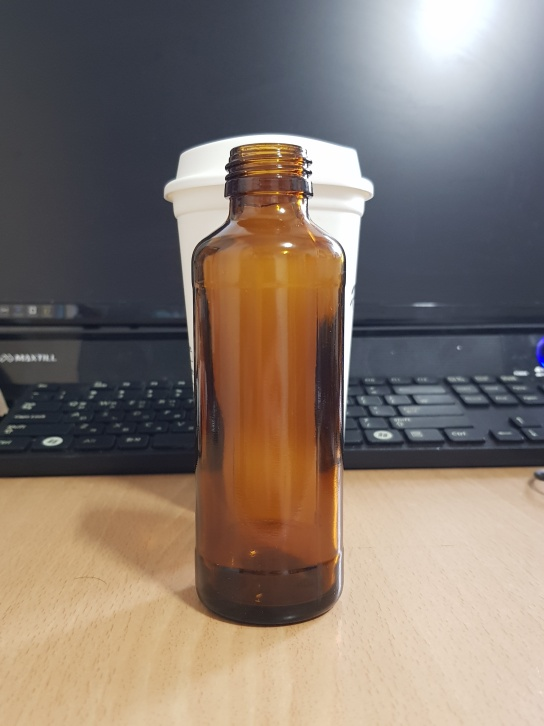Glass: (189, 142, 347, 628)
